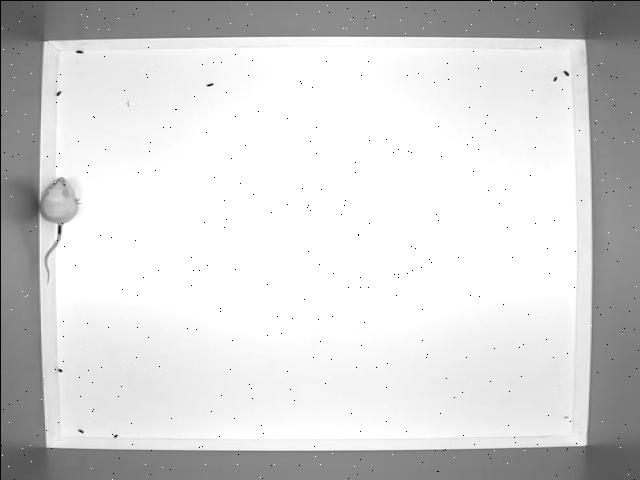Tikus: (38, 177, 78, 285)
